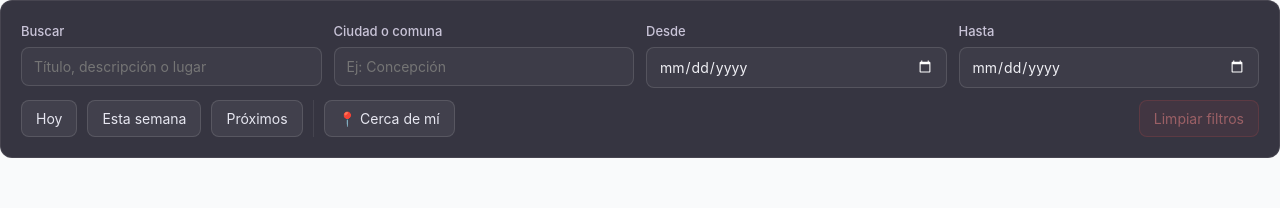
EventFilters — "Cerca de mí" elige la comuna más cercana › picks the comuna that contains the position even when another centroid is closer
Click the button "📍 Cerca de mí": (389, 118) [324,100,455,137]
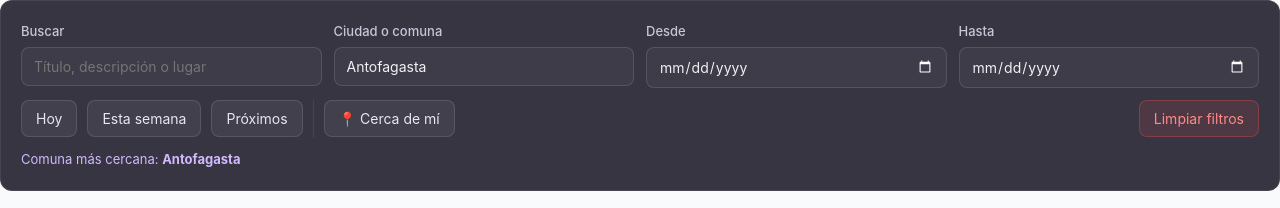
Check: the message shows "Antofagasta", box [162,151,240,167]
Check: the text "Antofagasta" is shown, box [162,151,240,167]
